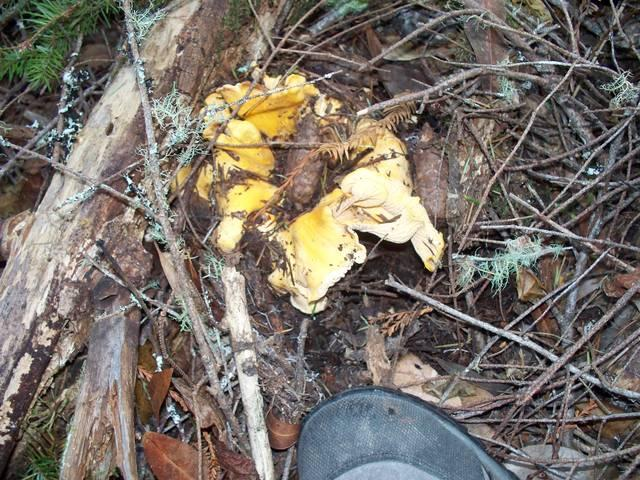edible_mushroom: (169, 64, 445, 315)
